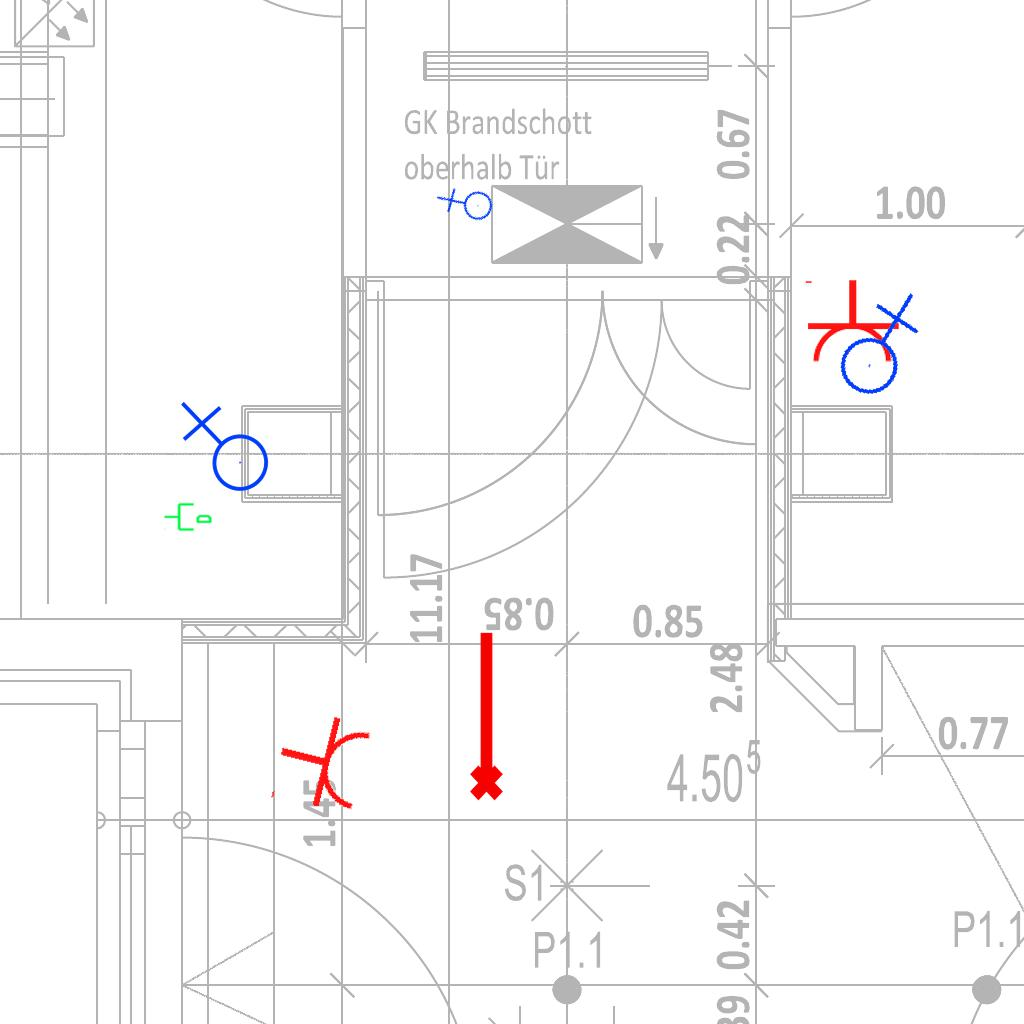ASR_Ansaugoeffnung: (461, 627, 507, 803)
Datenanschluss_einfach: (163, 499, 213, 533)
Elektroanschluss_allgemein_230V_Geraeteanschlussdose_230V: (816, 287, 937, 405), (176, 401, 270, 500), (434, 172, 501, 239)
Schukosteckdose_einfach: (267, 703, 376, 823), (801, 278, 901, 365)
